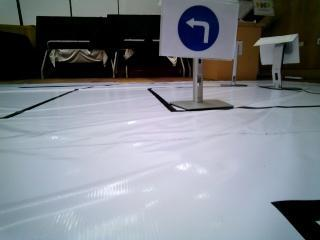left: (162, 4, 232, 58)
